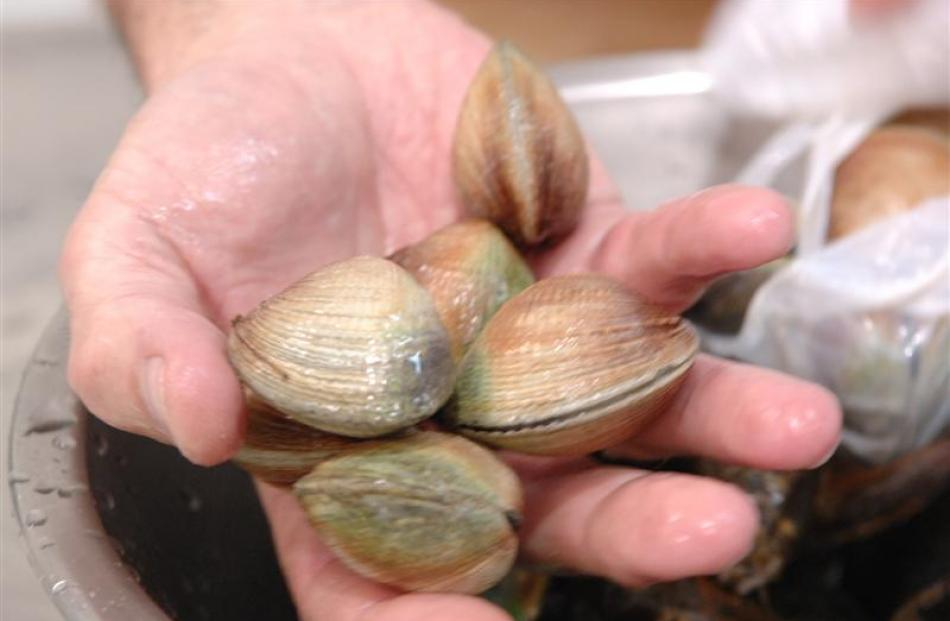cockle: (454, 274, 701, 464), (219, 252, 456, 437), (289, 430, 522, 596), (451, 38, 589, 247), (378, 220, 534, 378)
